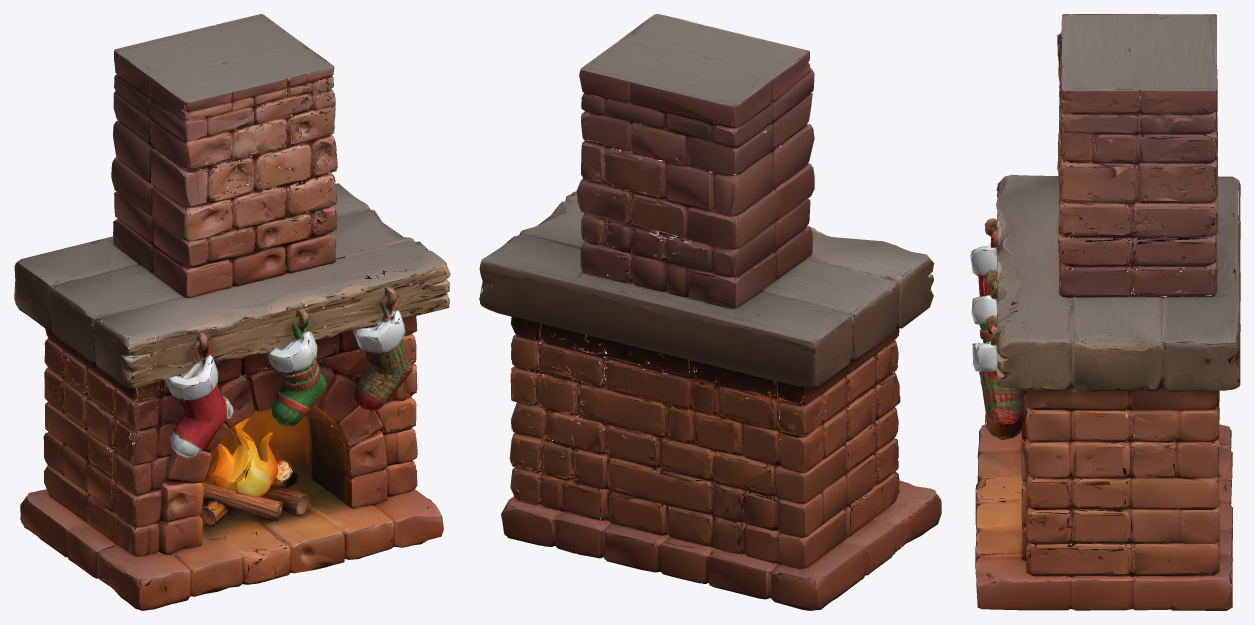
Rendered from Fireplace.fbx.
3 renders of one model, left to right at view 1: azimuth 30°, elevation 25°; view 2: azimuth 150°, elevation 25°; view 3: azimuth 270°, elevation 25°, orthographic. The views are drawn at different scales.
Parts seen in each view (by area): view 1: Fireplace; view 2: Fireplace; view 3: Fireplace.
Boxes of the visible parts, x1=… form: Fireplace: x1=14, y1=14, x2=450, y2=610; Fireplace: x1=479, y1=14, x2=941, y2=610; Fireplace: x1=970, y1=14, x2=1240, y2=610.
Bounding box in the file's own units: 147 × 201 × 101.
Materials: 1 (1 with a texture image).
